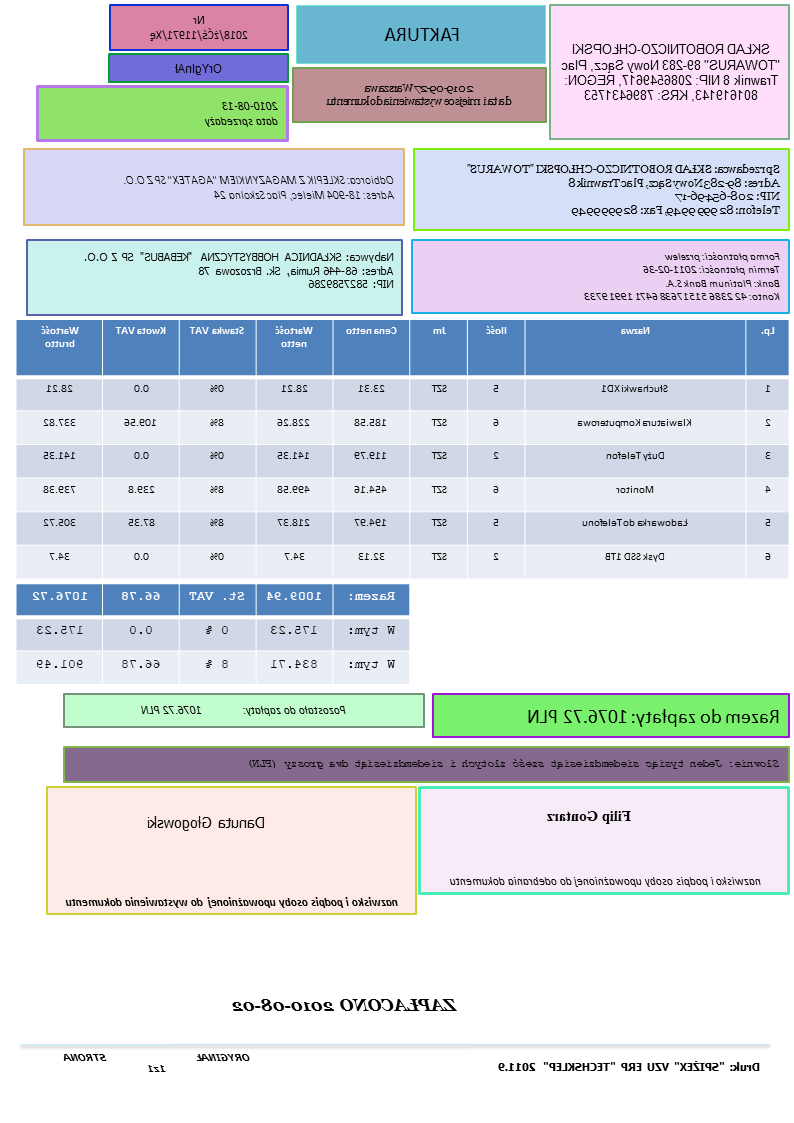Table: (17, 318, 791, 580), (14, 583, 411, 685)
TextBox: (465, 160, 784, 219), (559, 41, 783, 103), (80, 249, 397, 291), (582, 249, 783, 305), (121, 173, 397, 203), (248, 756, 782, 771), (526, 705, 781, 728), (322, 81, 515, 109), (64, 893, 401, 909), (229, 995, 462, 1016), (448, 874, 764, 889), (60, 1051, 252, 1075), (495, 1059, 762, 1075), (138, 702, 348, 718), (147, 14, 251, 44), (202, 98, 281, 129), (146, 814, 267, 834), (383, 24, 463, 46), (545, 807, 634, 825), (173, 59, 225, 77)
